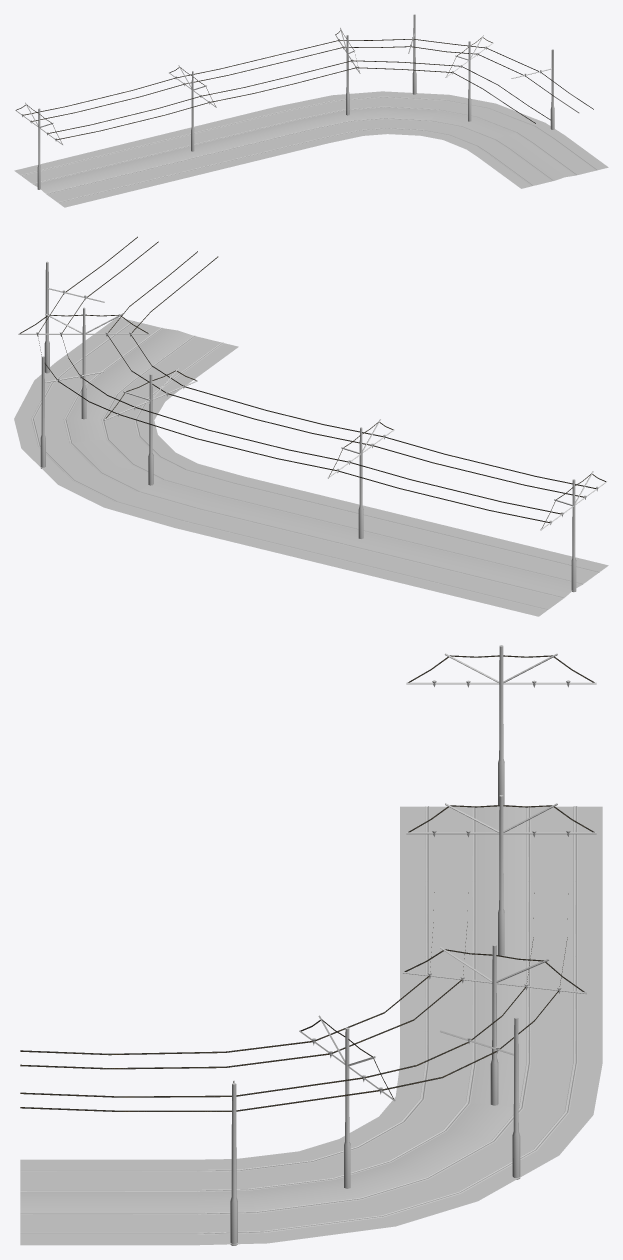
The model's file is Tram.fbx.
3 renders of one model, top to bottom at view 1: azimuth 30°, elevation 25°; view 2: azimuth 150°, elevation 25°; view 3: azimuth 270°, elevation 25°, orthographic. The views are drawn at different scales.
Visible parts, largest first — view 1: Tram_Corner, Tram_Tile1, Tram_Tile, Tram_powercable_Tile, Tram_Pole; view 2: Tram_Corner, Tram_Tile1, Tram_Tile, Tram_powercable_Tile, Tram_Pole; view 3: Tram_Corner, Tram_Tile1, Tram_Tile, Tram_powercable_Tile, Tram_Pole.
Boxes of the visible parts, bbox=[...] form: Tram_Corner: bbox=[168, 14, 608, 188]; Tram_Tile1: bbox=[91, 133, 217, 188]; Tram_Tile: bbox=[14, 152, 140, 207]; Tram_powercable_Tile: bbox=[15, 78, 208, 189]; Tram_Pole: bbox=[511, 49, 554, 129]; Tram_Corner: bbox=[14, 236, 395, 564]; Tram_Tile1: bbox=[326, 513, 502, 590]; Tram_Tile: bbox=[433, 539, 608, 616]; Tram_powercable_Tile: bbox=[338, 437, 607, 592]; Tram_Pole: bbox=[44, 261, 104, 373]; Tram_Corner: bbox=[20, 795, 602, 1245]; Tram_Tile1: bbox=[400, 879, 602, 956]; Tram_Tile: bbox=[400, 805, 602, 881]; Tram_powercable_Tile: bbox=[406, 645, 596, 805]; Tram_Pole: bbox=[230, 1080, 237, 1245].
Size of the model in its own units: 4116 by 709 by 2300.
